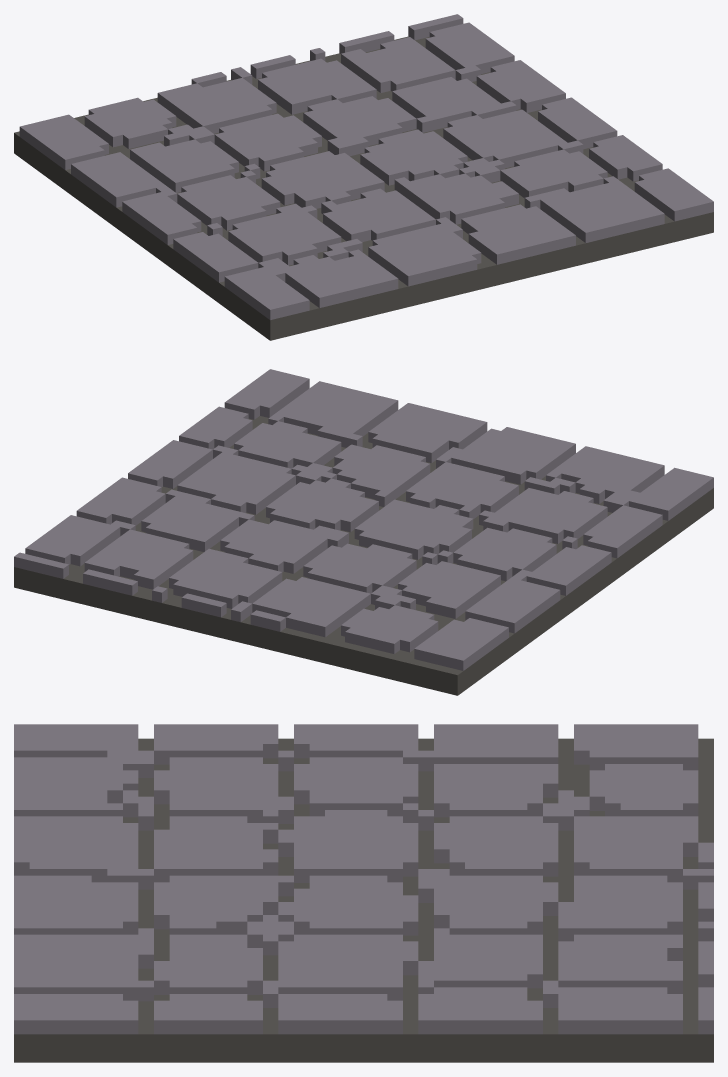
The model's file is Floor.dae.
3 renders of one model, top to bottom at view 1: azimuth 30°, elevation 25°; view 2: azimuth 150°, elevation 25°; view 3: azimuth 270°, elevation 25°, orthographic. The views are drawn at different scales.
Visible parts, largest first — view 1: Floor; view 2: Floor; view 3: Floor.
Part boxes in pixels (x1,y1,x2,y2): Floor: (14,14,713,340); Floor: (14,369,713,695); Floor: (14,724,713,1062).
Bounding box in the file's own units: 45 × 45 × 3.
1 material, 1 textured.
